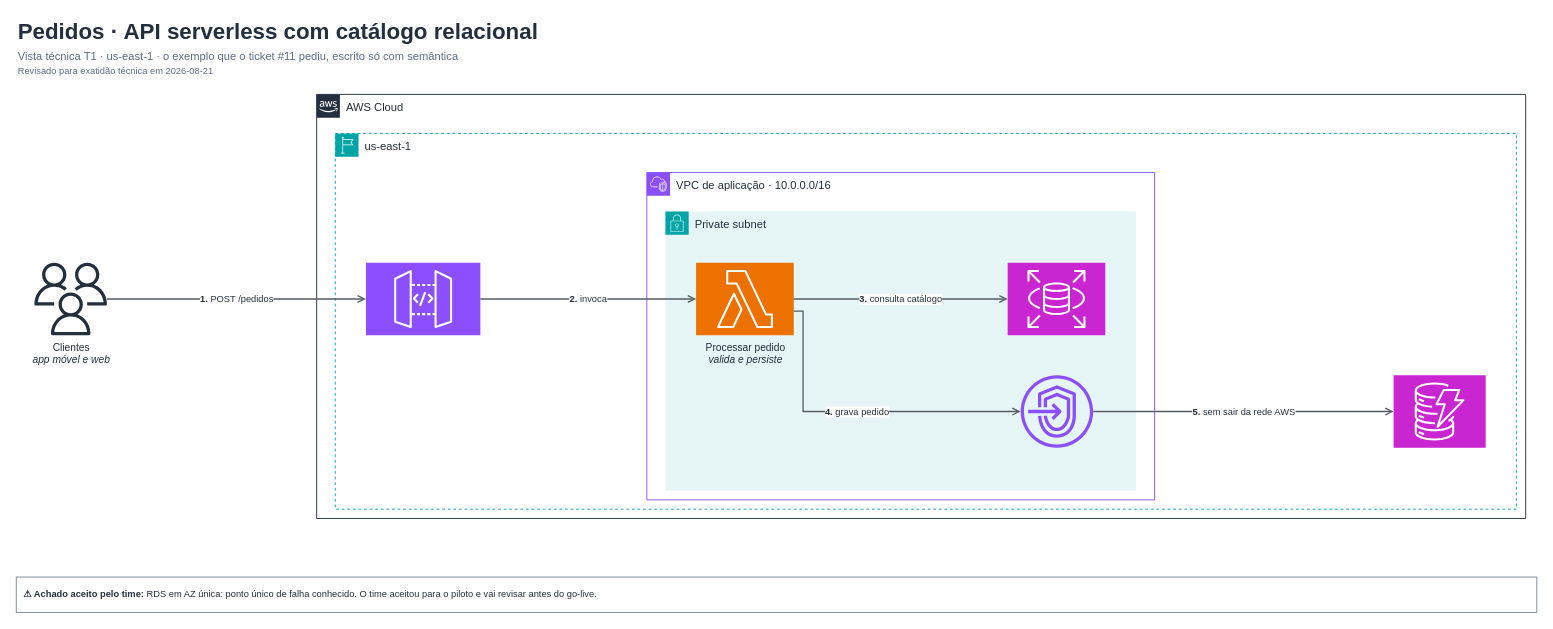
Image size: 1553x629. Some labels were removed from this diagram. The shapes that lost their labels are listed below. From the top down, each one's centre as x and y in pixels, then its label:
(422,298): API Gateway borda pública da API
(1056,298): Catálogo Postgres, leitura
(1056,411): VPC endpoint saída sem NAT
(1439,411): DynamoDB pedidos gravados
